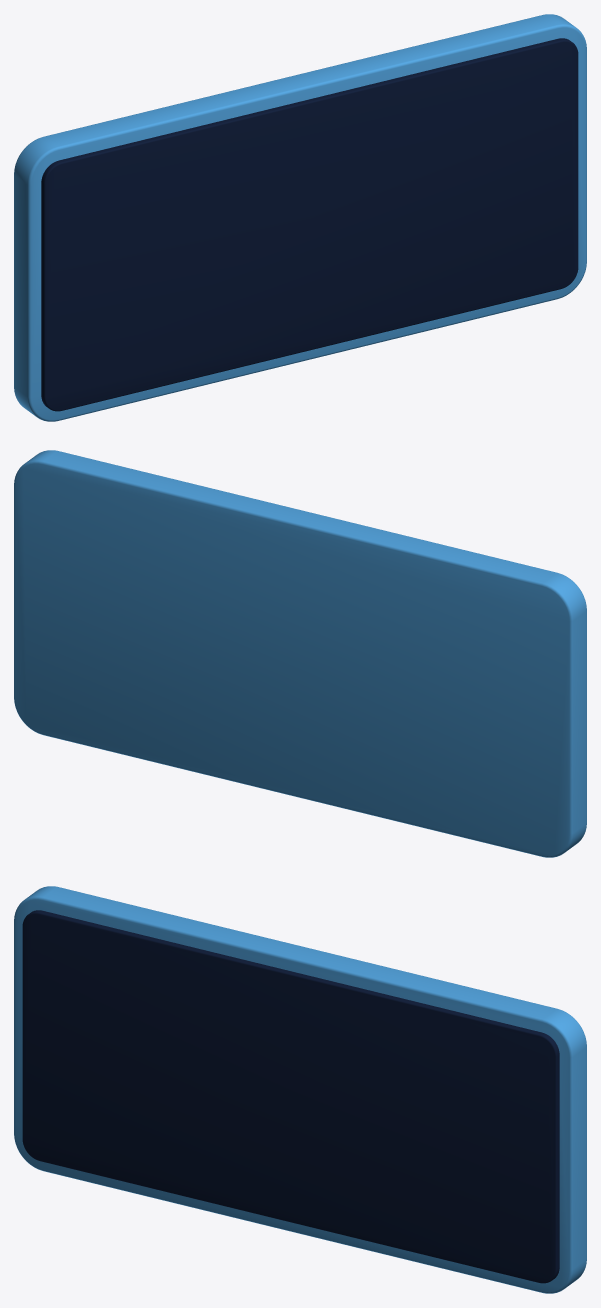
File: panel-mediano-oscuro.glb
The picture shows the model from 3 angles, top to bottom: view 1: azimuth 30°, elevation 25°; view 2: azimuth 150°, elevation 25°; view 3: azimuth 330°, elevation 25°; orthographic projection.
Visible parts, largest first — view 1: placa, borde; view 2: borde; view 3: placa, borde.
Boxes of the visible parts, box(x1,y1,x2,y2) form: placa: box(41, 38, 578, 411); borde: box(14, 14, 586, 421); borde: box(14, 450, 586, 857); placa: box(22, 910, 559, 1283); borde: box(14, 886, 586, 1293).
Bounding box in the file's own units: 3.2 × 1.5 × 0.192.
